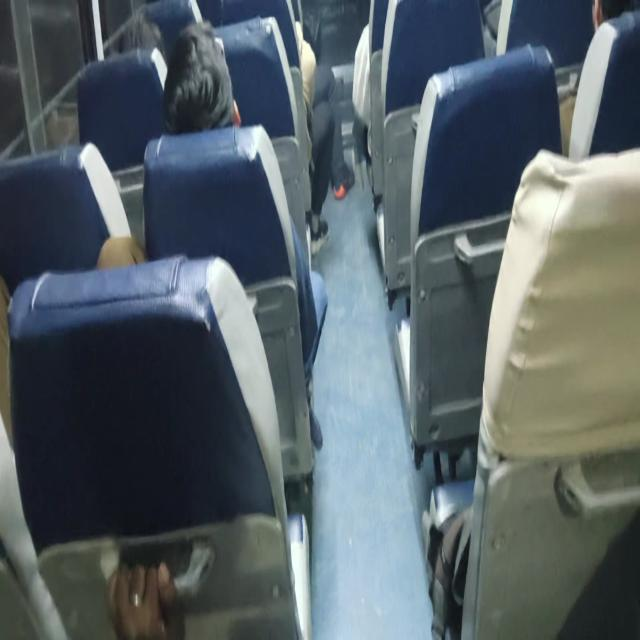person: (161, 19, 328, 450), (162, 20, 241, 134), (106, 552, 178, 638)
